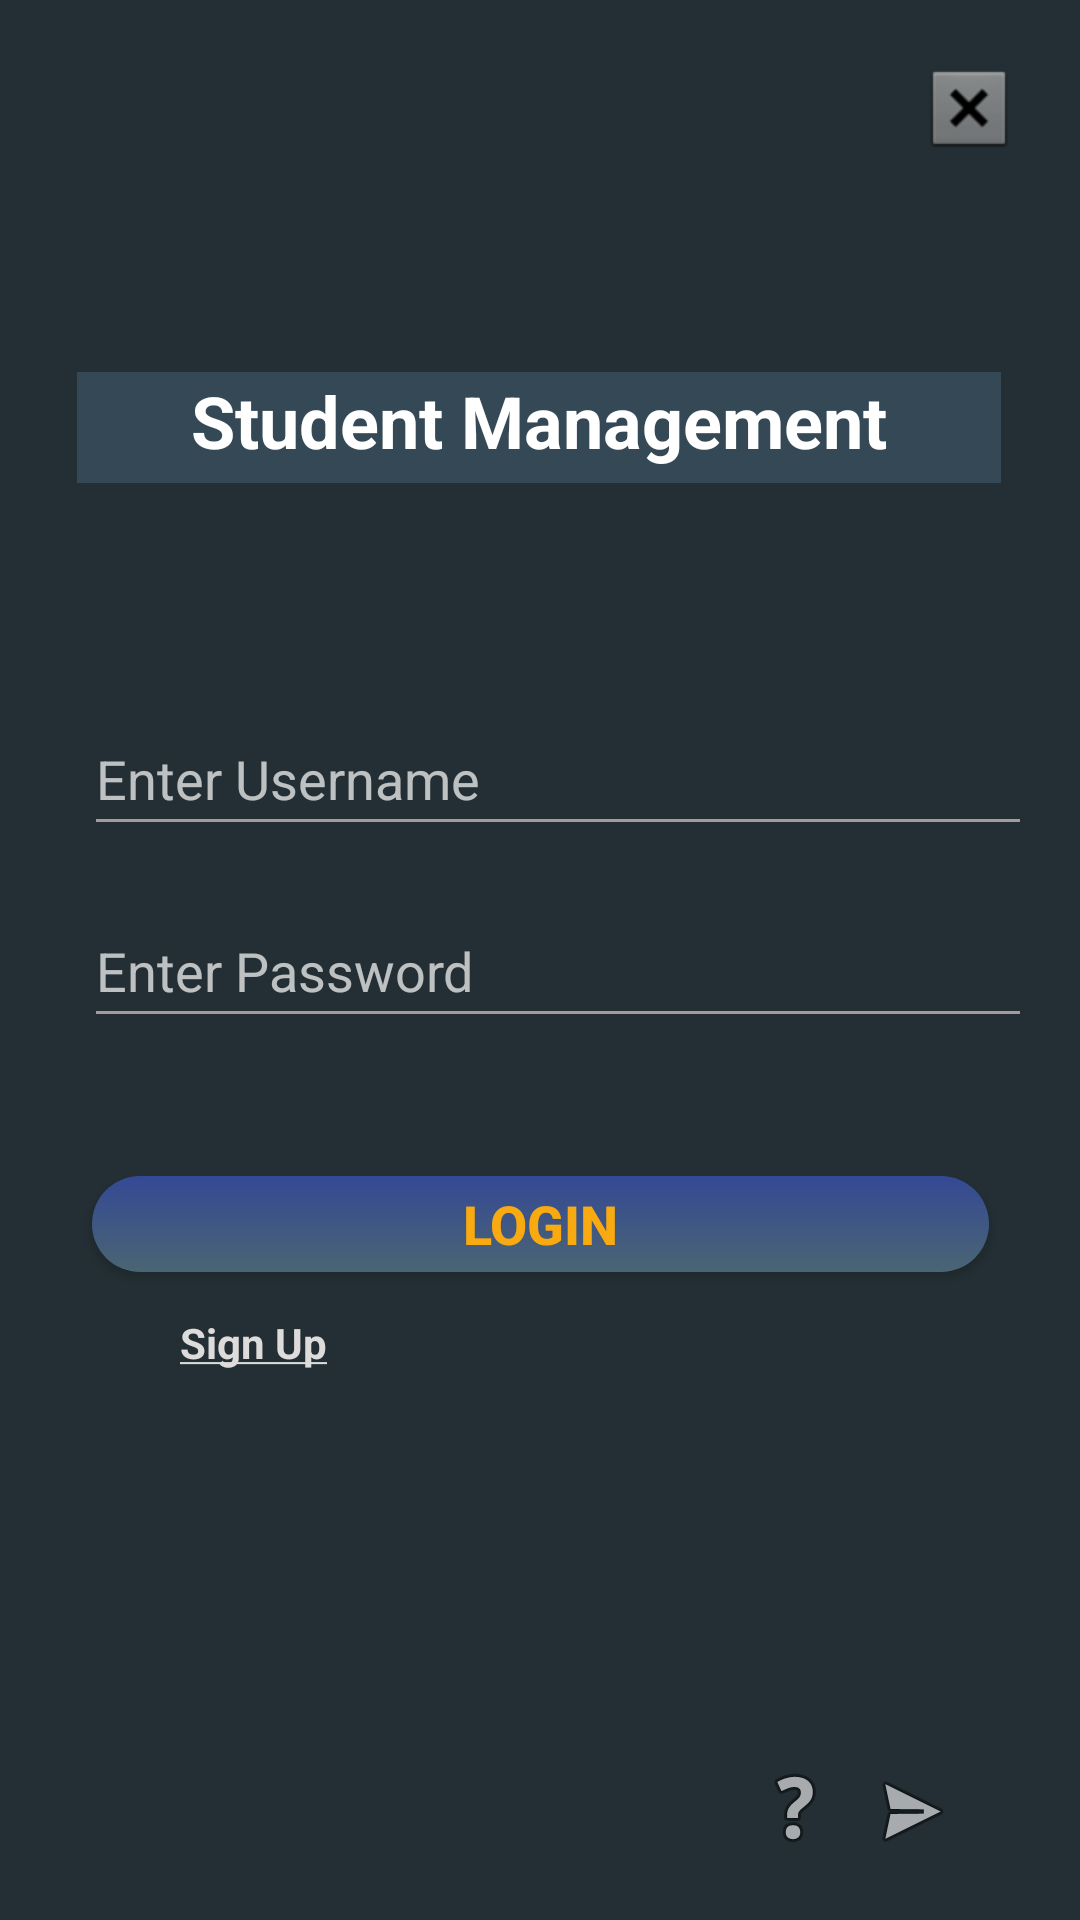

Icon bounding boxes for this 1080 x 1920 phone screenshot, format (x1, y1, x2, y2):
help: (776, 1776, 814, 1840)
send: (884, 1783, 941, 1840)
